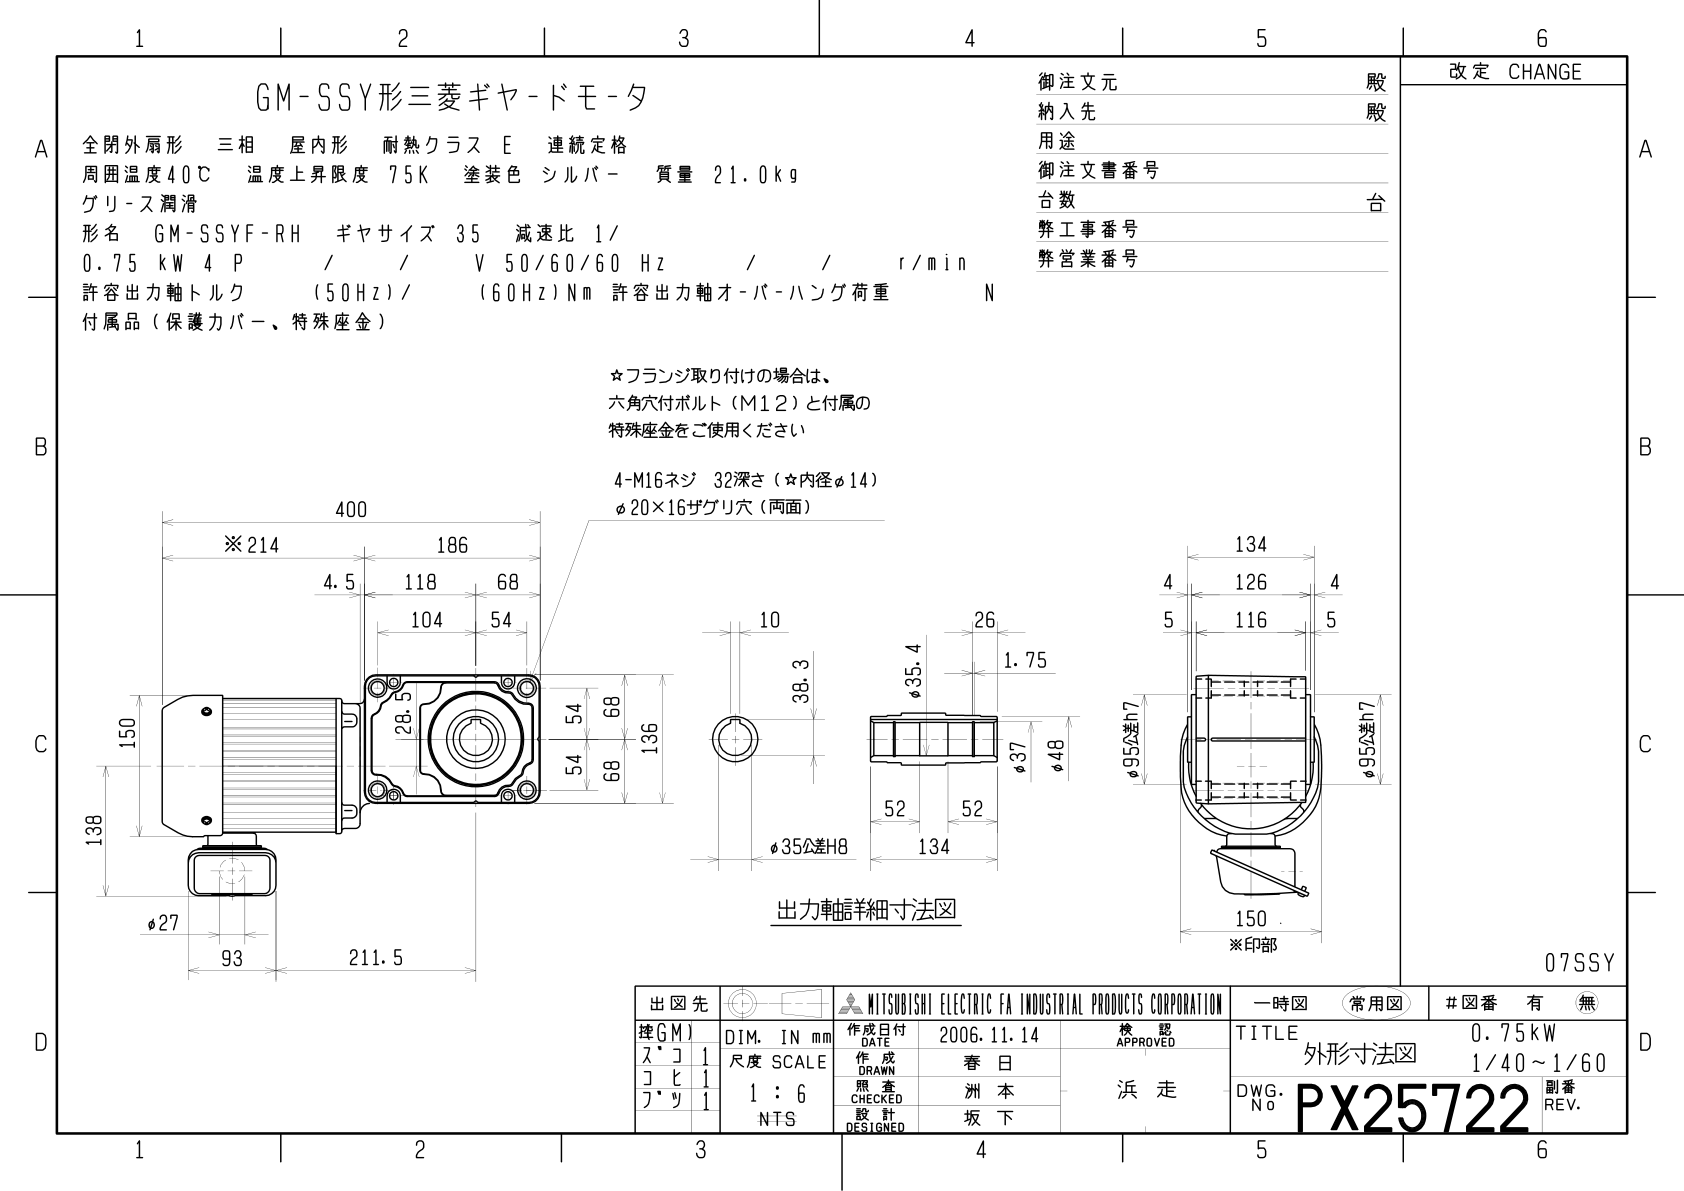GM_SSY_屋内_三相: (70, 339, 1386, 978)
